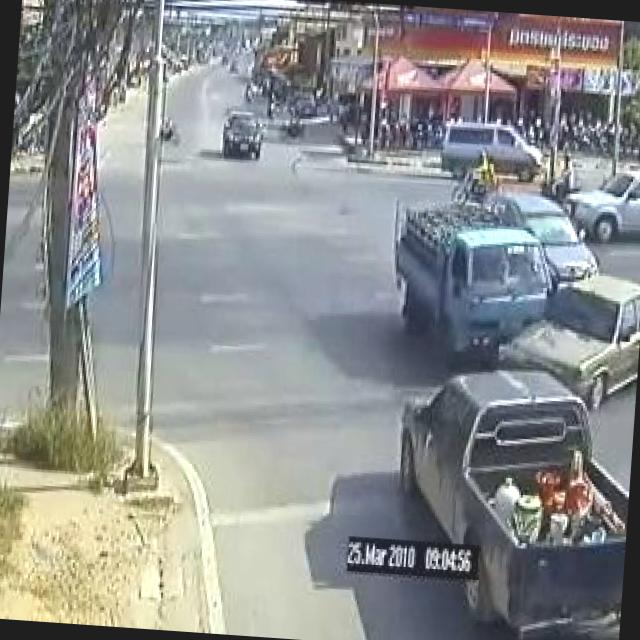bike: (446, 140, 509, 207), (536, 150, 590, 208), (145, 108, 185, 154)
car: (381, 365, 636, 640), (384, 195, 552, 363), (491, 263, 640, 403), (495, 180, 607, 290), (435, 112, 545, 184), (562, 158, 640, 244), (219, 104, 267, 164)
